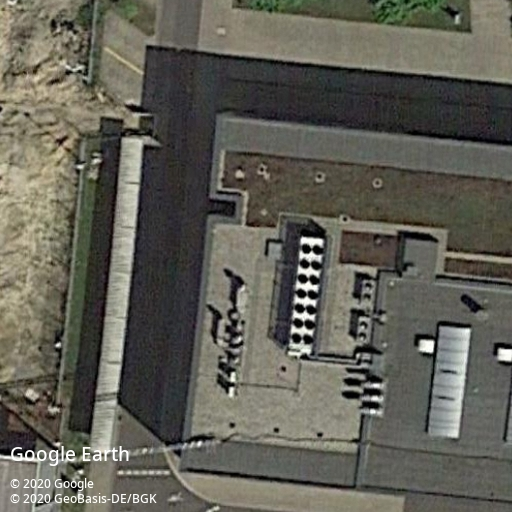Chiller: (288, 236, 326, 349), (360, 279, 376, 306), (355, 315, 371, 342)
